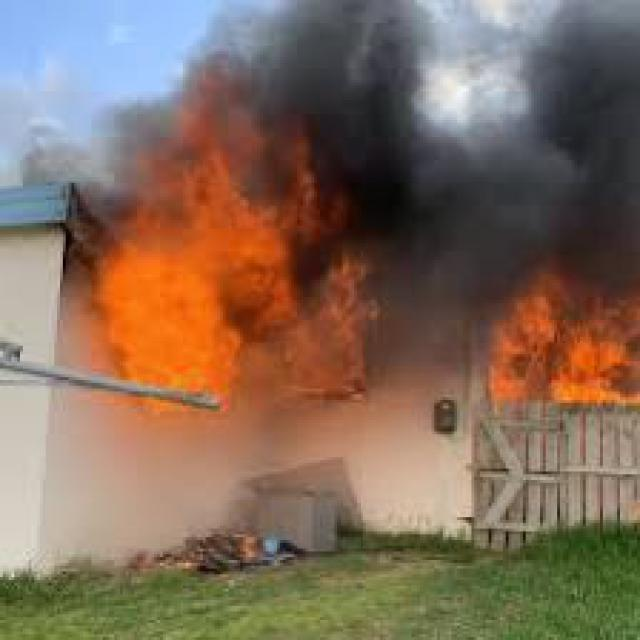fire: (89, 114, 377, 406), (474, 263, 637, 411)
